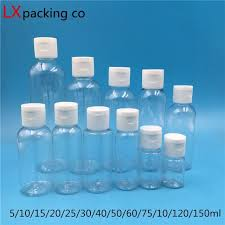available: (14, 96, 53, 197), (52, 97, 89, 199), (23, 34, 66, 107), (85, 103, 115, 195), (135, 64, 171, 135), (167, 87, 198, 168), (137, 122, 167, 194), (113, 107, 138, 192), (67, 55, 104, 112), (164, 129, 191, 192), (103, 65, 135, 117)
